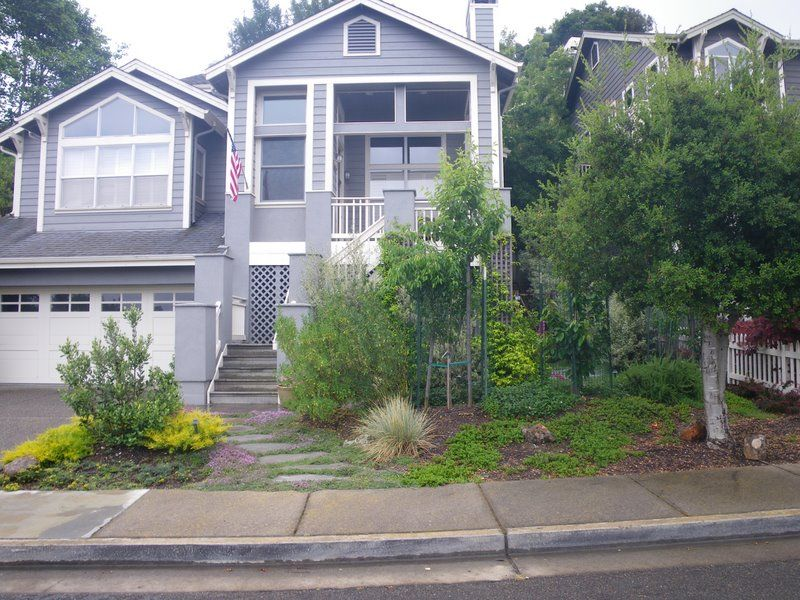tree: (548, 72, 799, 453), (417, 135, 498, 413)
